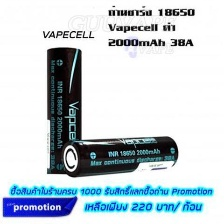battery: (60, 130, 183, 180), (43, 43, 85, 177)
